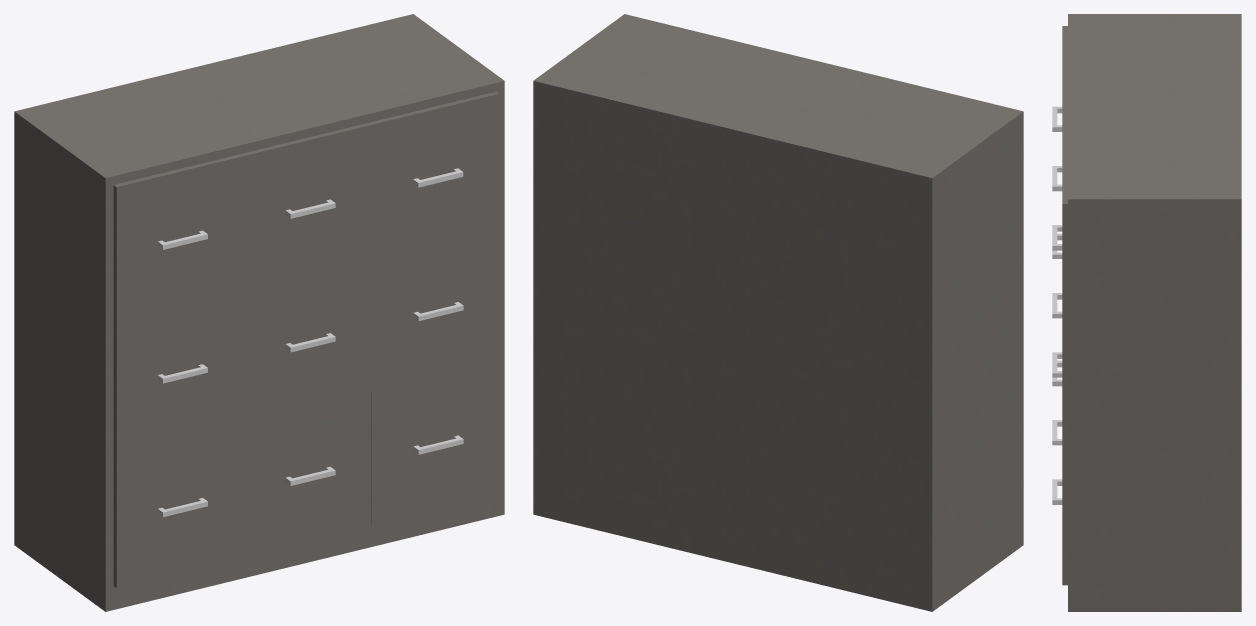
Rendered from Drawer45.fbx.
3 views of the same model, side by side, from view 1: azimuth 30°, elevation 25°; view 2: azimuth 150°, elevation 25°; view 3: azimuth 270°, elevation 25° (orthographic). The views are drawn at different scales.
Visible parts, largest first — view 1: Drawer45_Body, Drawer45_1, Drawer45_4, Drawer45_7, Drawer45_3, Drawer45_2, Drawer45_9, Drawer45_5, Drawer45_6, Drawer45_8; view 2: Drawer45_Body; view 3: Drawer45_Body, Drawer45_3, Drawer45_6, Drawer45_9, Drawer45_1, Drawer45_2.
Boxes of the visible parts, <box> form: Drawer45_Body: <box>14,14,504,611</box>; Drawer45_1: <box>113,154,244,320</box>; Drawer45_4: <box>113,289,244,454</box>; Drawer45_7: <box>113,423,244,587</box>; Drawer45_3: <box>369,91,499,258</box>; Drawer45_2: <box>242,123,371,289</box>; Drawer45_9: <box>371,361,499,525</box>; Drawer45_5: <box>244,258,371,422</box>; Drawer45_6: <box>372,227,499,391</box>; Drawer45_8: <box>244,392,371,556</box>; Drawer45_Body: <box>533,14,1023,611</box>; Drawer45_Body: <box>1068,14,1241,611</box>; Drawer45_3: <box>1052,144,1067,330</box>; Drawer45_6: <box>1052,331,1067,458</box>; Drawer45_9: <box>1052,458,1067,585</box>; Drawer45_1: <box>1052,26,1067,131</box>; Drawer45_2: <box>1052,85,1067,191</box>.
Size of the model in its own units: 106 by 110 by 45.57.
